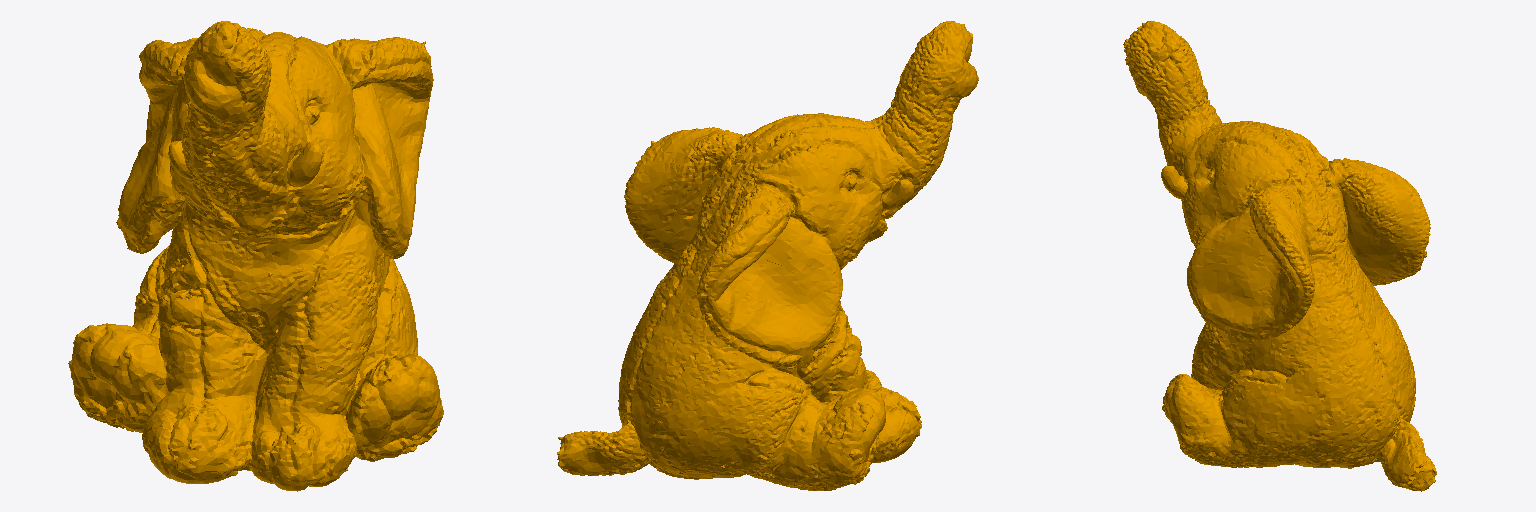
The robot description file, URDF, robot "2cizm7l0":
<?xml version='1.0'?>

<robot name="2cizm7l0">
    <static>false</static>
    <link name="link">
        <inertial>
            <mass value="0.1449621043645566"/>
            <inertia ixx="0.00016571393794170182" ixy="-1.0949759889771239e-05" ixz="1.7815096576583964e-05"
                     iyy="0.00016322149120843074" iyz="2.3403220775506898e-05" izz="9.127498233243699e-05"/>
        </inertial>
        <collision name="collision">
            <geometry>
                <mesh filename="package://miscnet/train/2cizm7l0/collision_model_vhacd.obj"/>
            </geometry>
        </collision>
        <visual name="visual">
            <geometry>
                <mesh filename="package://miscnet/train/2cizm7l0/visual_model.obj"/>
            </geometry>
        </visual>
    </link>
</robot>

--- Render facts (derived) ---
3 views of the same robot in one strip: view 1: azimuth 30°, elevation 25°; view 2: azimuth 150°, elevation 25°; view 3: azimuth 270°, elevation 25° (orthographic).
Robot: 2cizm7l0 — 1 links, 0 joints (none); root link link; default pose: all joints at 0.
Visible links, largest first — view 1: link; view 2: link; view 3: link.
Boxes of the visible links, <box> form: link: <box>68,21,443,491</box>; link: <box>557,21,978,490</box>; link: <box>1123,21,1436,491</box>.
Size in the robot's own frame: 0.0871 by 0.0955 by 0.1231 metres.
1 mesh visuals loaded from 1 distinct referenced files (1 OBJ).
